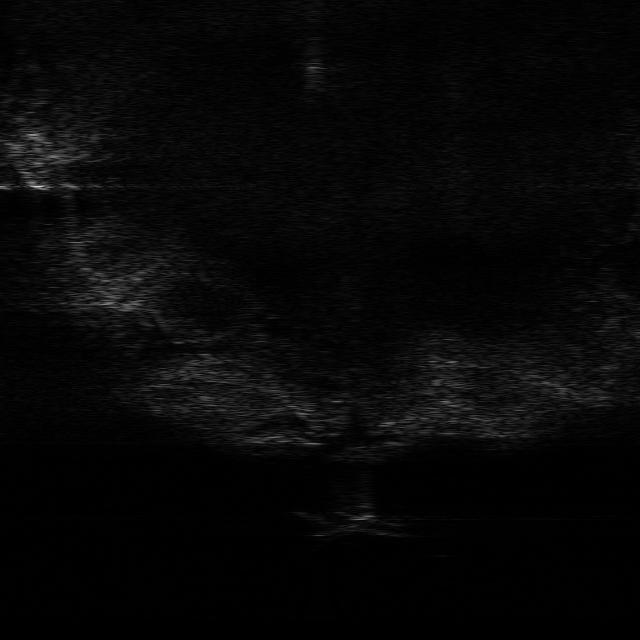plane: (293, 502, 417, 540)
